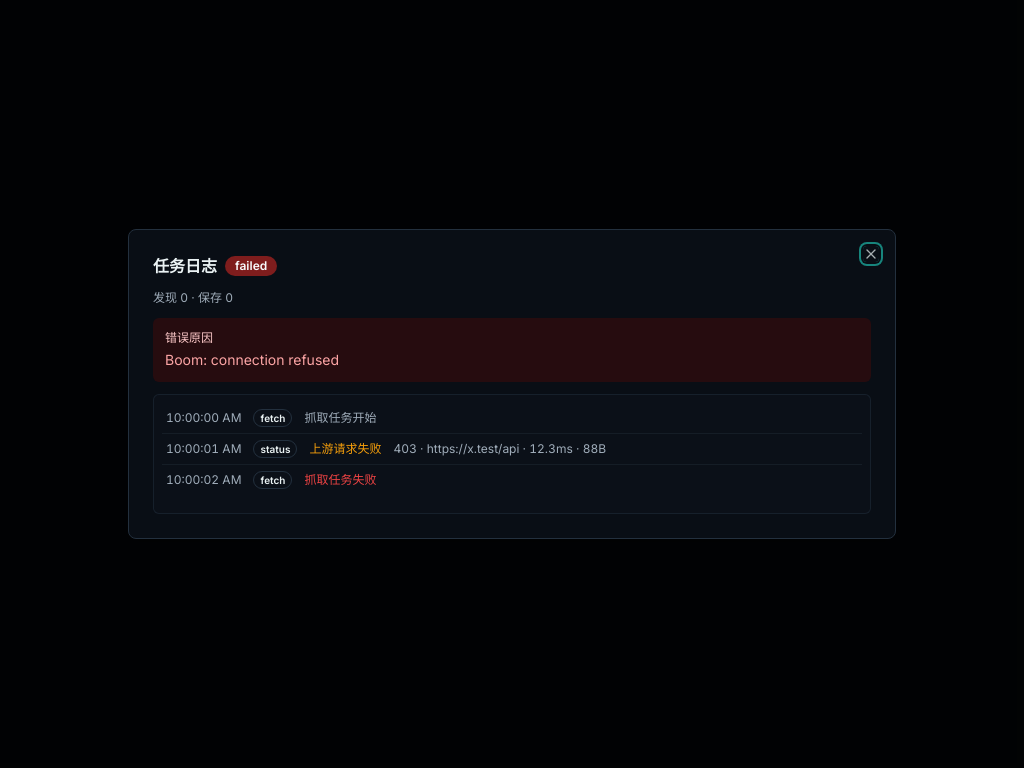
Test case: JobLogModal › renders the timeline, the failure block, and expands an HTTP row
expect the text "抓取任务开始" is shown: met, box top-left (304, 410), bottom-right (376, 426)
expect the text "Boom: connection refused" is shown: met, box top-left (165, 351), bottom-right (339, 368)
Click the text "上游请求失败" at (346, 449), box top-left (310, 441), bottom-right (382, 457)
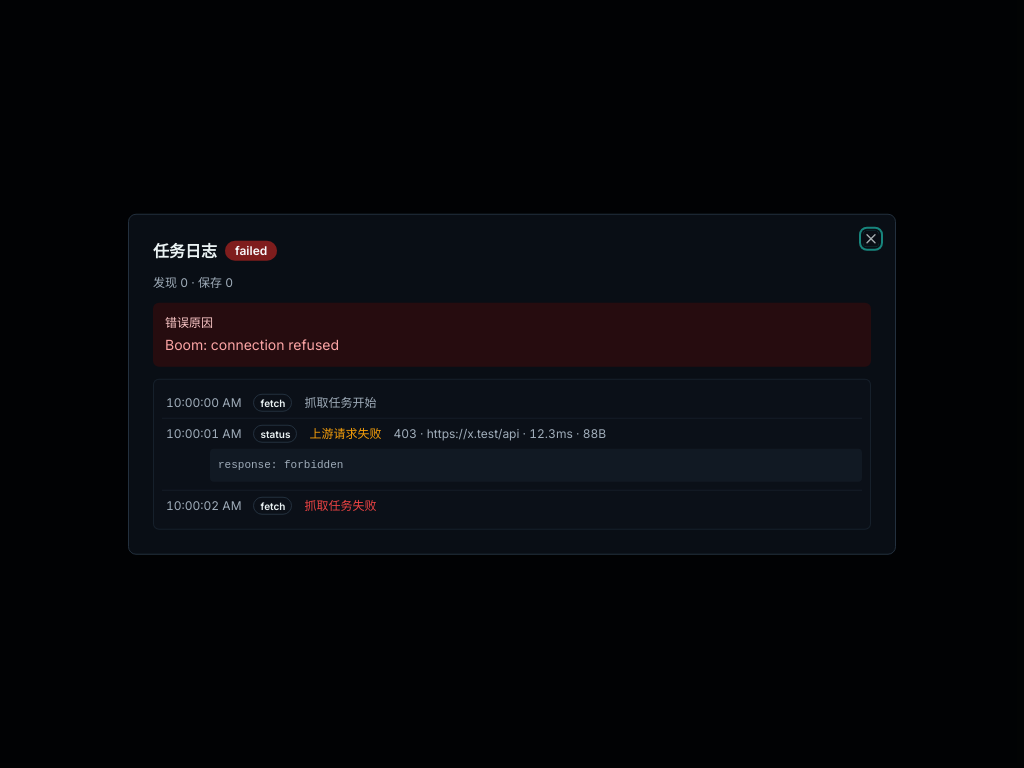
expect the text "response: forbidden" is shown: met, box top-left (210, 449), bottom-right (862, 481)
